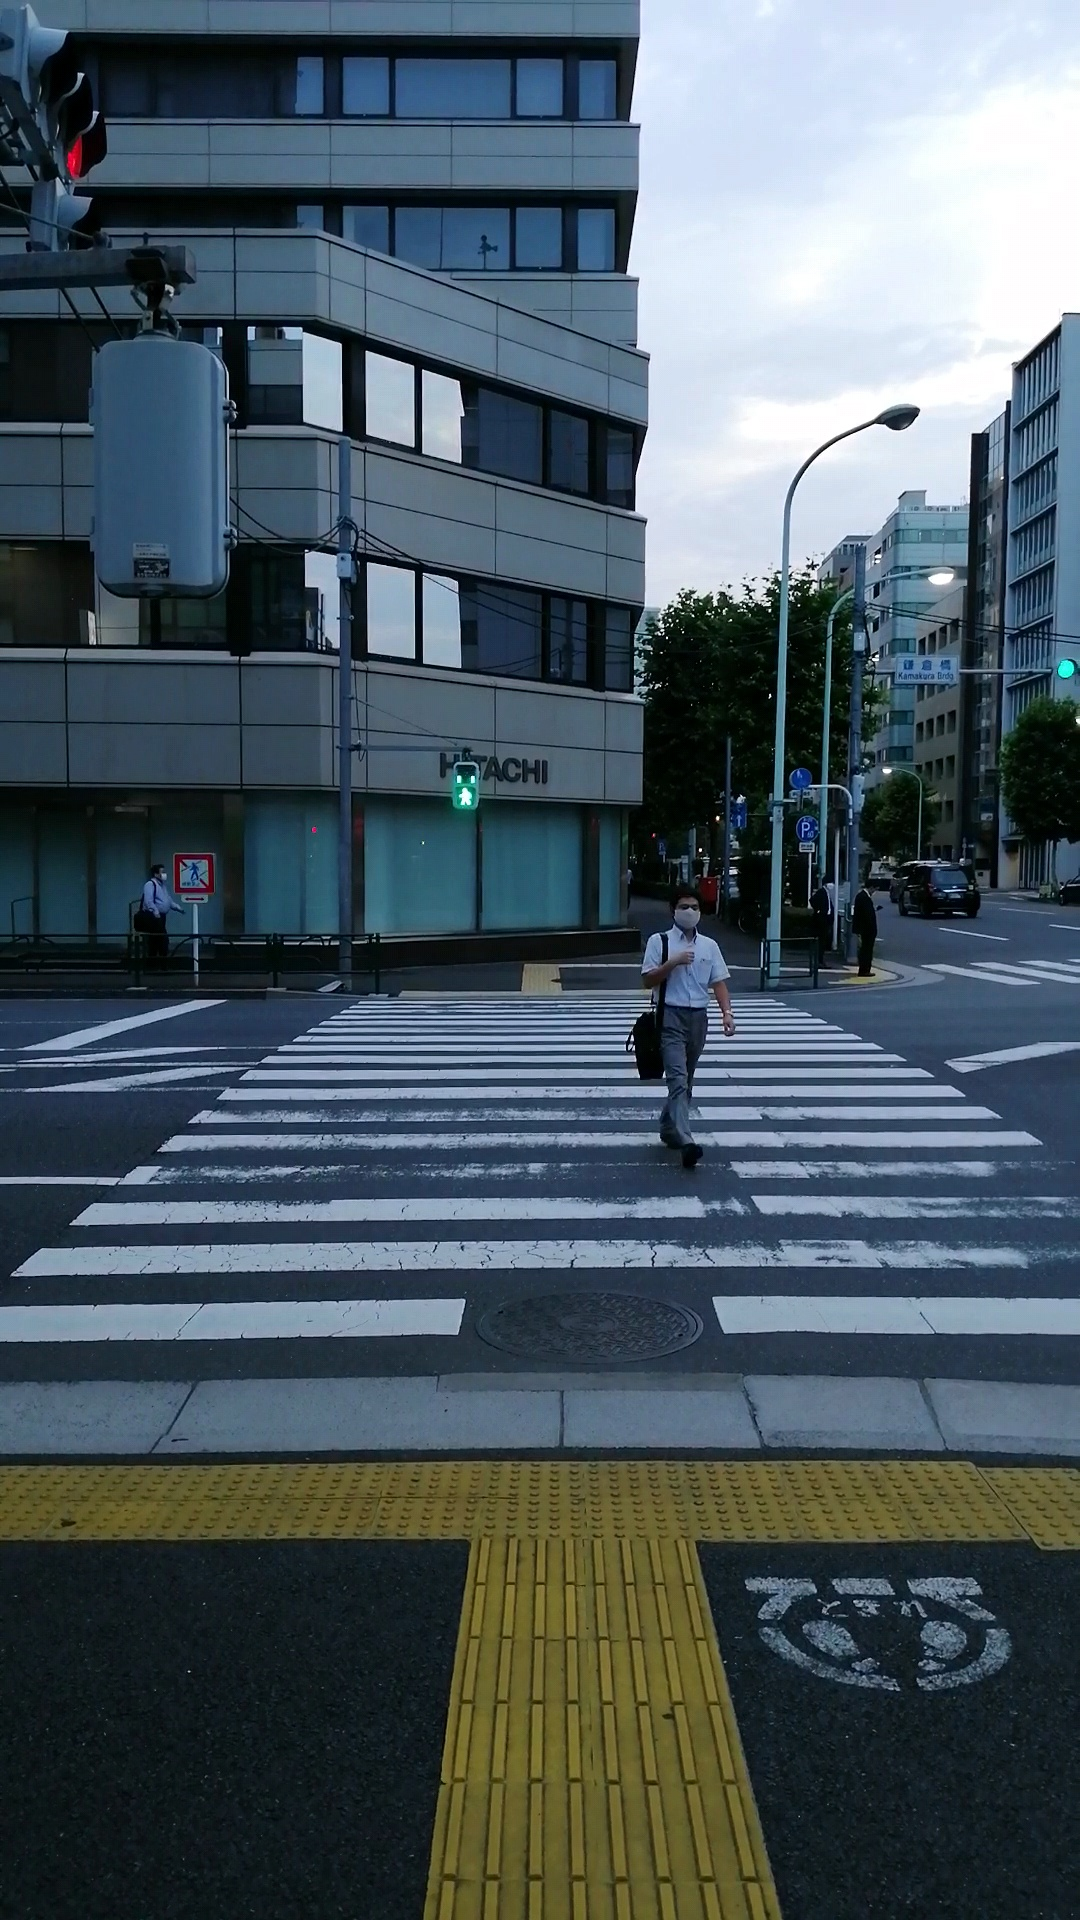green: (452, 760, 479, 811)
